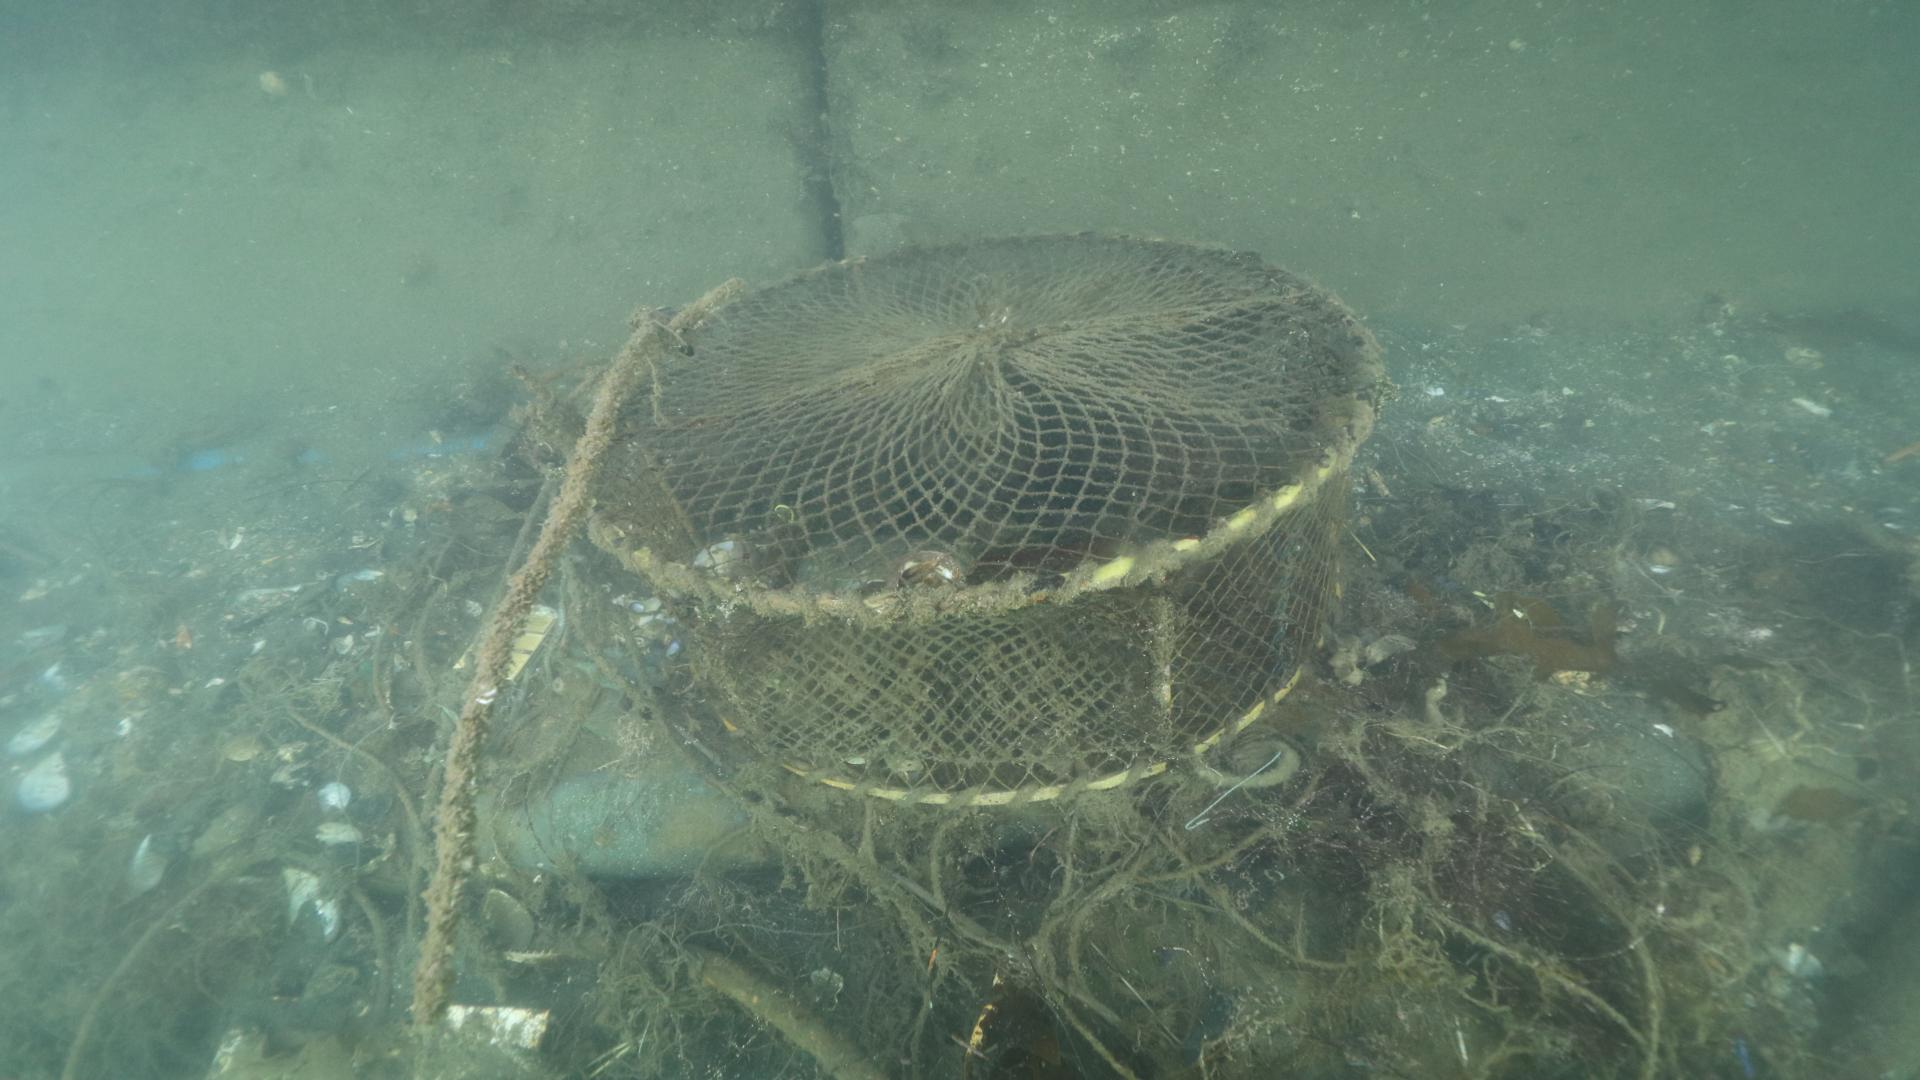circular fish trap: (575, 225, 1390, 804)
